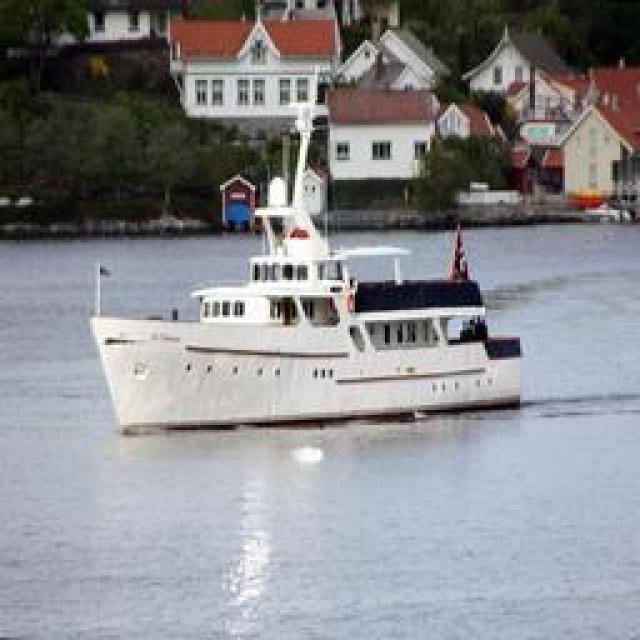CIV_Ship: (92, 142, 518, 428)
